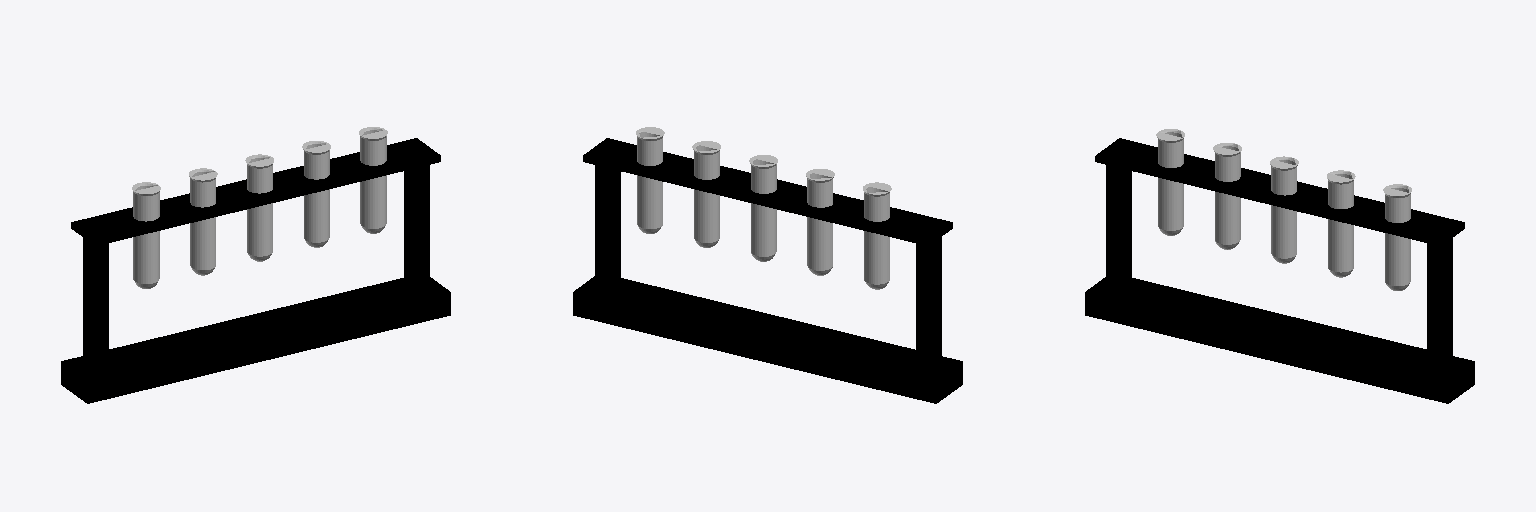
File: buisRek.obj
3 views of the same model, side by side, from view 1: azimuth 30°, elevation 25°; view 2: azimuth 150°, elevation 25°; view 3: azimuth 330°, elevation 25° (orthographic).
Visible parts, largest first — view 1: Cube_Cube.001, Cylinder.021_Cylinder.027, Cylinder.017_Cylinder.023, Cylinder.018_Cylinder.024, Cylinder.019_Cylinder.025, Cylinder.016_Cylinder.022; view 2: Cube_Cube.001, Cylinder.021_Cylinder.027, Cylinder.019_Cylinder.025, Cylinder.018_Cylinder.024, Cylinder.016_Cylinder.022, Cylinder.017_Cylinder.023; view 3: Cube_Cube.001, Cylinder.021_Cylinder.027, Cylinder.019_Cylinder.025, Cylinder.018_Cylinder.024, Cylinder.016_Cylinder.022, Cylinder.017_Cylinder.023.
Part boxes in pixels (x1,y1,x2,y2): Cube_Cube.001: (61, 138, 450, 403); Cylinder.021_Cylinder.027: (132, 182, 160, 288); Cylinder.017_Cylinder.023: (359, 127, 387, 233); Cylinder.018_Cylinder.024: (245, 154, 273, 261); Cylinder.019_Cylinder.025: (189, 168, 217, 275); Cylinder.016_Cylinder.022: (302, 141, 330, 247); Cube_Cube.001: (573, 138, 962, 403); Cylinder.021_Cylinder.027: (863, 182, 891, 289); Cylinder.019_Cylinder.025: (806, 169, 834, 275); Cylinder.018_Cylinder.024: (749, 155, 777, 261); Cylinder.016_Cylinder.022: (692, 141, 720, 247); Cylinder.017_Cylinder.023: (636, 127, 664, 233); Cube_Cube.001: (1085, 138, 1474, 403); Cylinder.021_Cylinder.027: (1156, 129, 1184, 235); Cylinder.019_Cylinder.025: (1213, 143, 1241, 249); Cylinder.018_Cylinder.024: (1270, 156, 1298, 263); Cylinder.016_Cylinder.022: (1327, 170, 1355, 277); Cylinder.017_Cylinder.023: (1383, 184, 1411, 290).
Size of the model in its own units: 32 by 15.87 by 4.